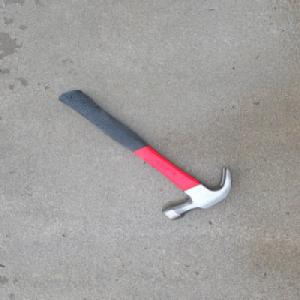Hammer: (57, 88, 233, 220)
